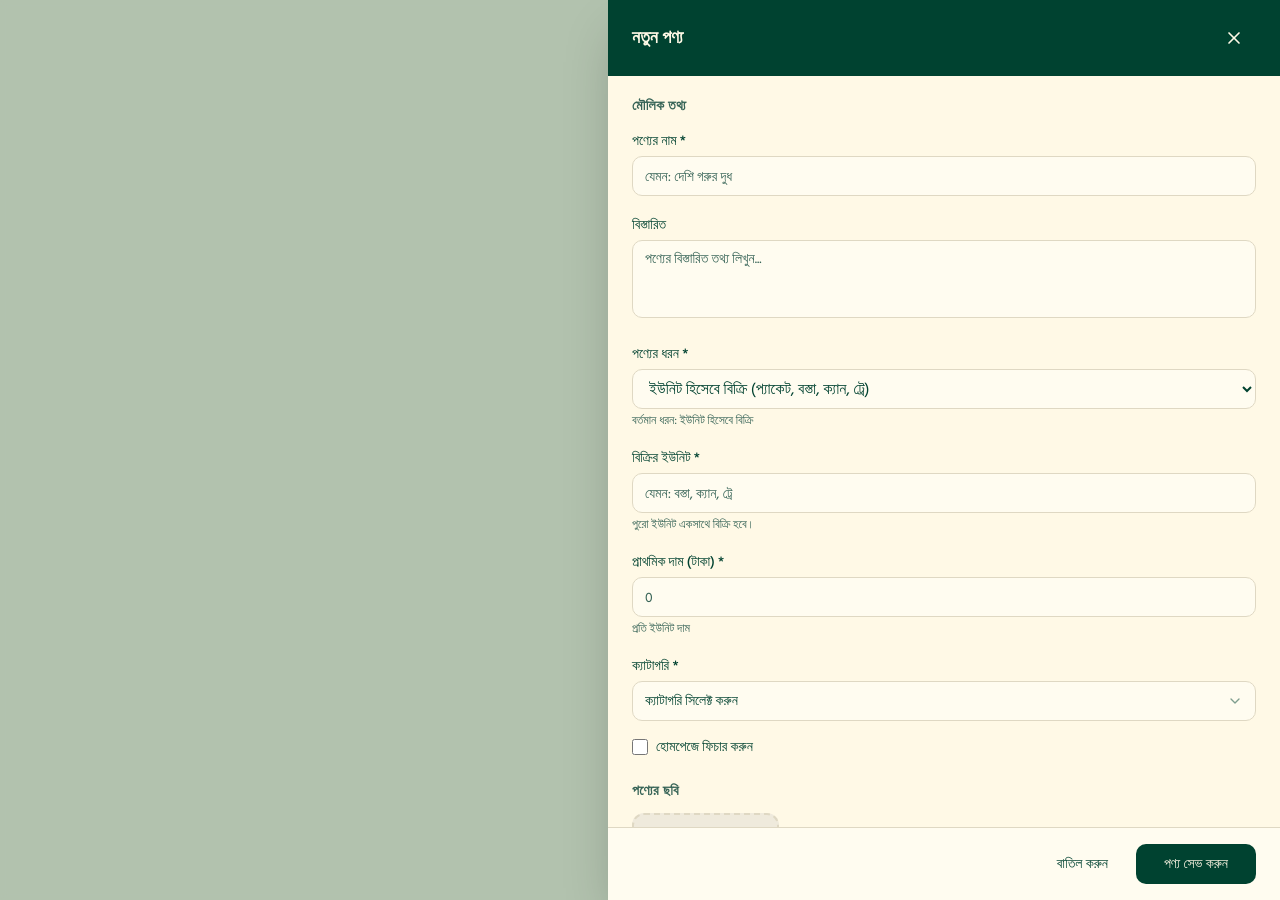
product creation form › uses a rate and stock threshold instead of pack/size for loose products
Step 1. Select "খোলা পণ্য, ওজনে বিক্রি" in the dropdown labelled "পণ্যের ধরন *" → [944, 389], box top-left (632, 369), bottom-right (1256, 409)
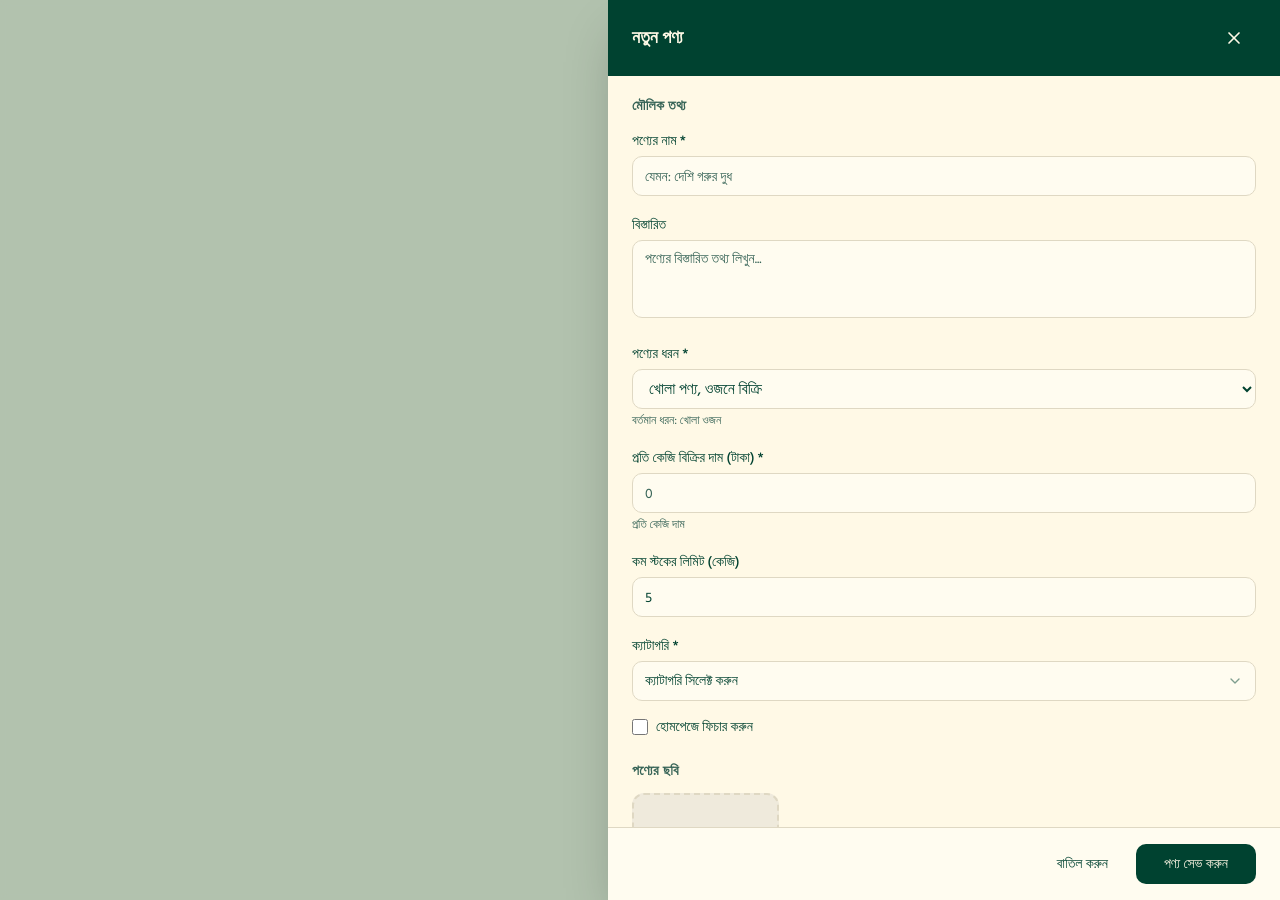
Expected: the text "প্রতি কেজি বিক্রির দাম (টাকা) *" is shown, top-left (632, 446), bottom-right (764, 469)
Expected: the text "কম স্টকের লিমিট (কেজি)" is shown, top-left (632, 550), bottom-right (740, 573)
